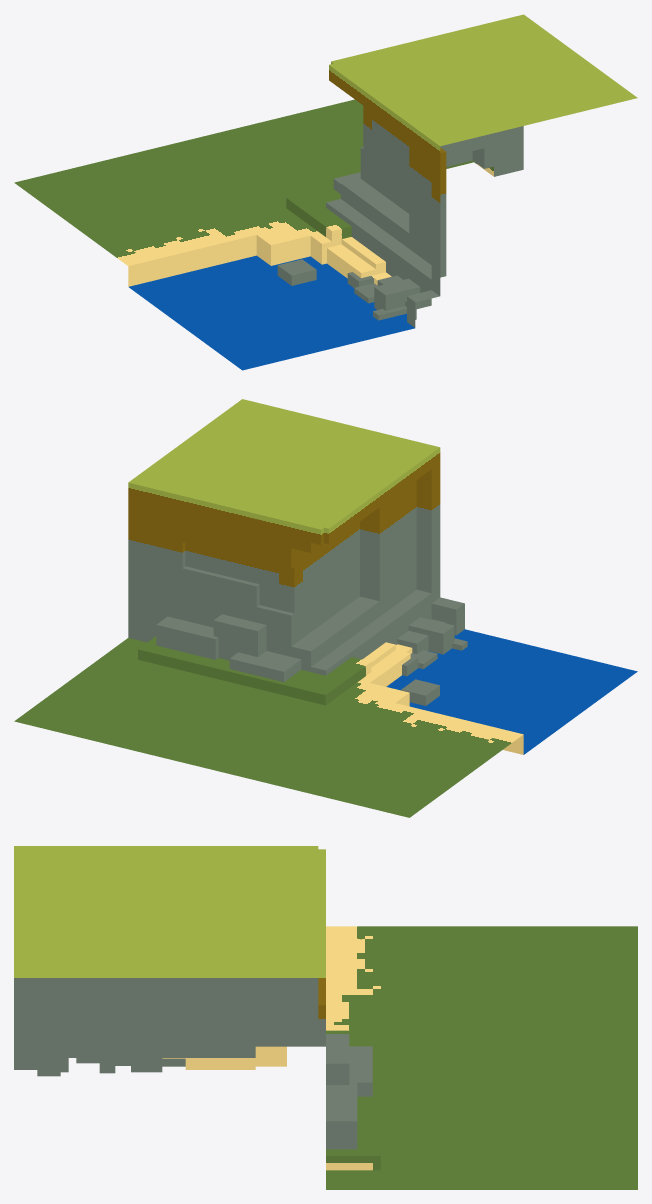
File: LLMW(1).glb
3 renders of one model, top to bottom at view 1: azimuth 30°, elevation 25°; view 2: azimuth 150°, elevation 25°; view 3: azimuth 270°, elevation 25°, orthographic. The views are drawn at different scales.
Parts seen in each view (by area): view 1: model_0.032; view 2: model_0.032; view 3: model_0.032.
Part boxes in pixels (x1,y1,x2,y2): model_0.032: (14,14,637,370); model_0.032: (14,399,637,817); model_0.032: (14,846,637,1189).
Size of the model in its own units: 80 by 34 by 80.
1 material, 1 textured.
